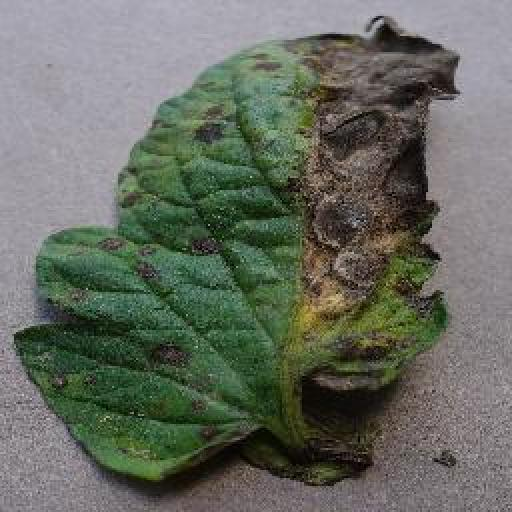Early Blight: (10, 12, 461, 489)
